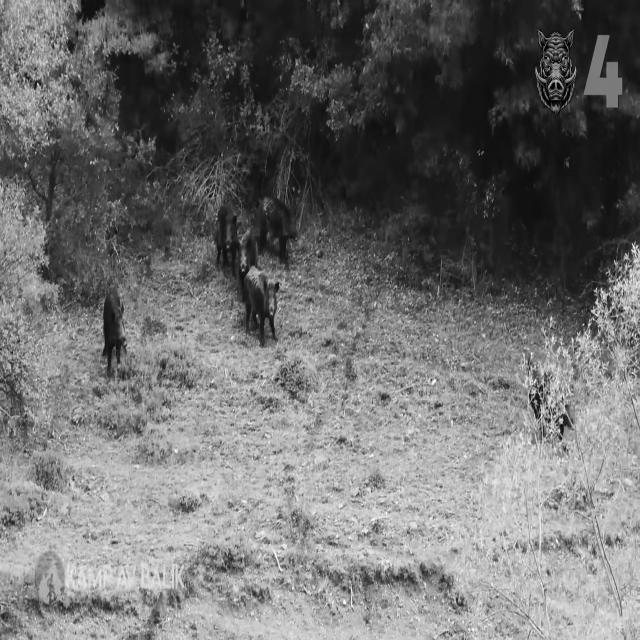boar: (215, 206, 279, 344), (523, 346, 576, 435), (243, 266, 279, 345), (260, 199, 297, 258), (102, 288, 126, 376)
